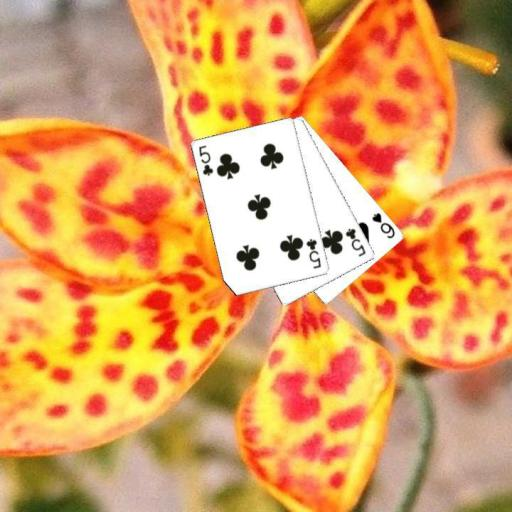5C: (343, 226, 368, 258), (196, 142, 215, 178), (303, 236, 323, 270)
6S: (369, 210, 397, 240)
